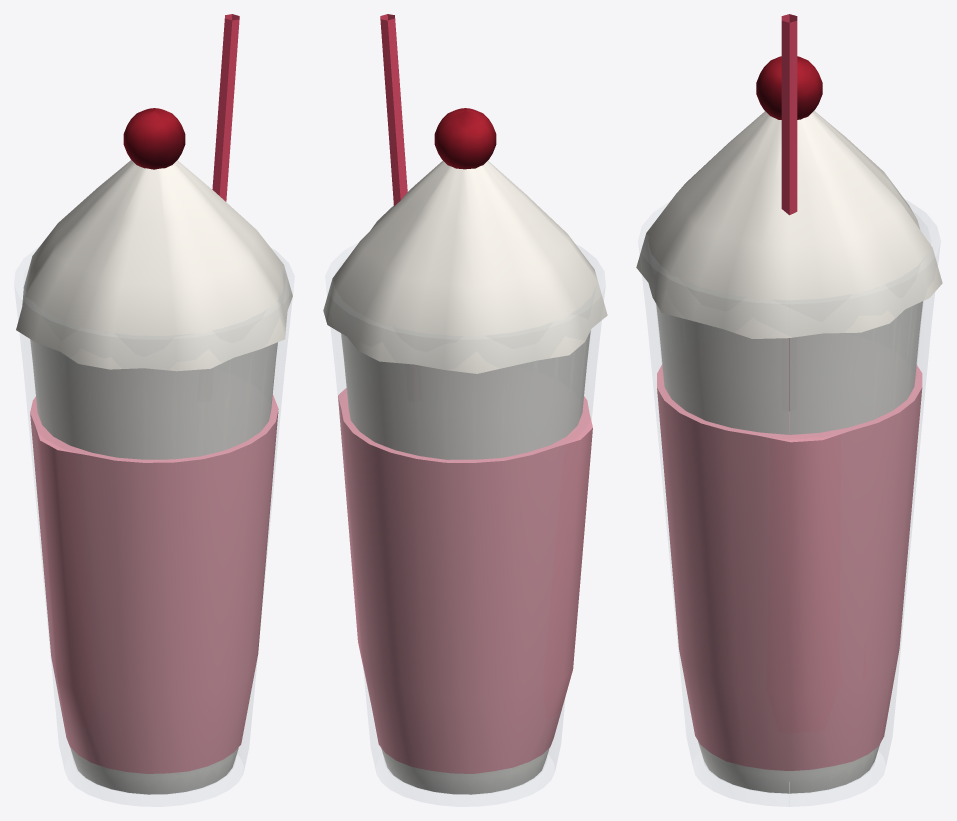
The model's file is drink_milkshake_whipped.glb.
The picture shows the model from 3 angles, left to right: view 1: azimuth 30°, elevation 25°; view 2: azimuth 150°, elevation 25°; view 3: azimuth 270°, elevation 25°; orthographic projection. The views are drawn at different scales.
Visible parts, largest first — view 1: drink_milkshake_whipped; view 2: drink_milkshake_whipped; view 3: drink_milkshake_whipped.
Boxes of the visible parts, bbox=[...] form: drink_milkshake_whipped: bbox=[14, 14, 294, 806]; drink_milkshake_whipped: bbox=[323, 14, 607, 806]; drink_milkshake_whipped: bbox=[636, 14, 942, 806].
Size of the model in its own units: 0.094 by 0.2702 by 0.0951.
6 materials, 1 textured.
